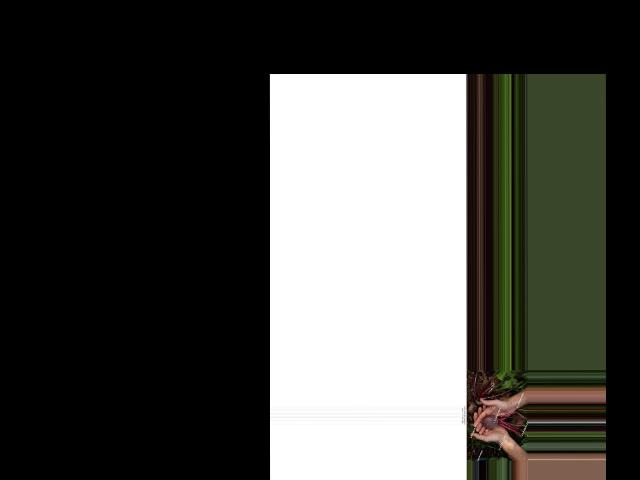beet: (480, 410, 526, 438)
